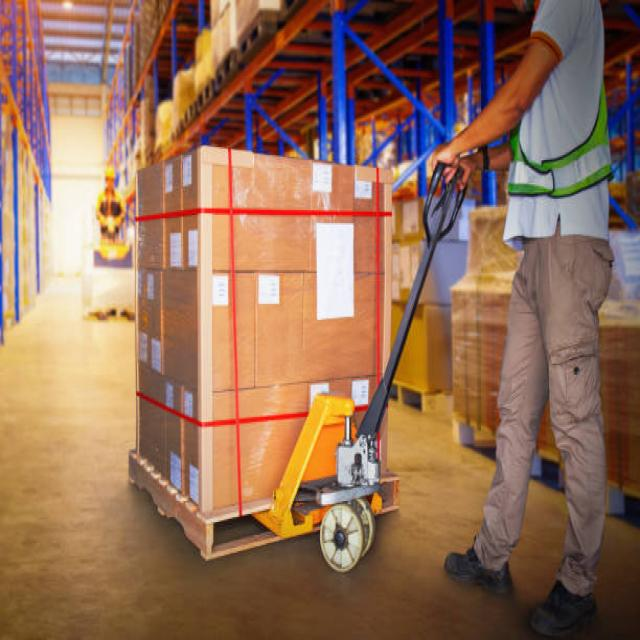Wooden-Pallets: (125, 444, 267, 560)
